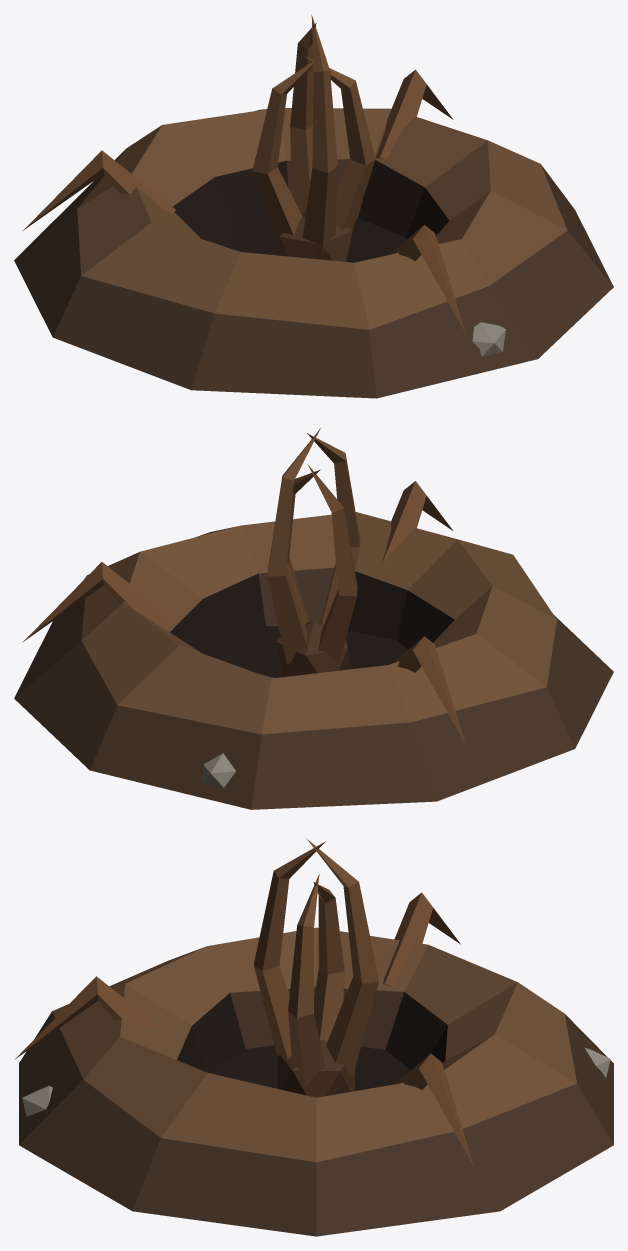
Rendered from Forest_Erdloch.fbx.
3 views of the same model, one above another, from view 1: azimuth 30°, elevation 25°; view 2: azimuth 150°, elevation 25°; view 3: azimuth 270°, elevation 25° (orthographic). The views are drawn at different scales.
Visible parts, largest first — view 1: Rift_Ground, Rift_Hand; view 2: Rift_Ground, Rift_Hand; view 3: Rift_Ground, Rift_Hand.
Part boxes in pixels (left/top/right/bottom): Rift_Ground: left=14, top=69, right=613, bottom=398; Rift_Hand: left=252, top=15, right=375, bottom=261; Rift_Ground: left=14, top=481, right=613, bottom=809; Rift_Hand: left=267, top=428, right=360, bottom=676; Rift_Ground: left=14, top=892, right=613, bottom=1236; Rift_Hand: left=253, top=838, right=378, bottom=1097.
Size of the model in its own units: 1.2 by 0.5801 by 1.15.
